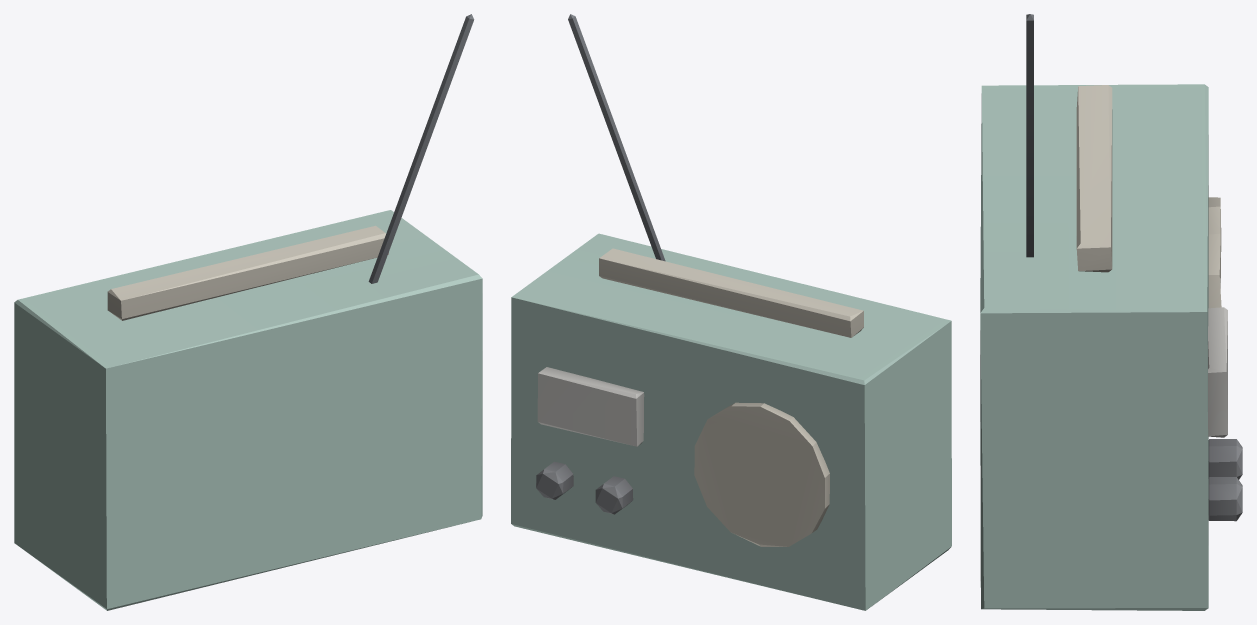
Rendered from furn_radio__mint_low.glb.
3 views of the same model, side by side, from view 1: azimuth 30°, elevation 25°; view 2: azimuth 150°, elevation 25°; view 3: azimuth 270°, elevation 25° (orthographic). The views are drawn at different scales.
Bounding box in the file's own units: 0.4279 × 0.5182 × 0.2041.
